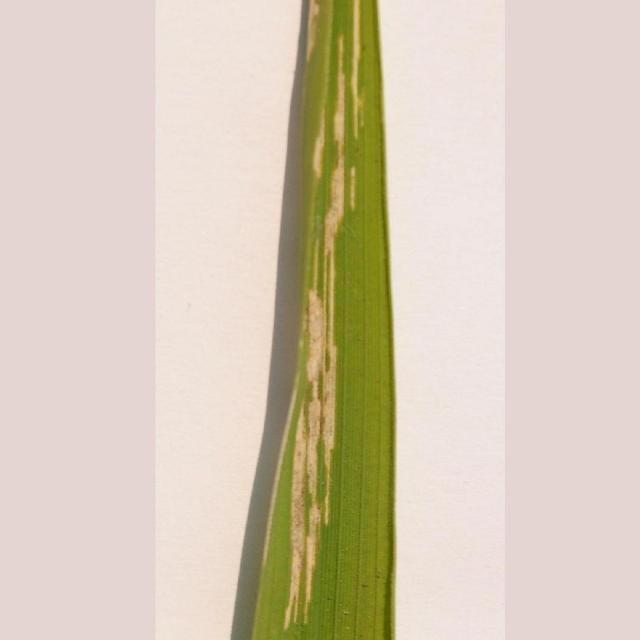leaf blight: (250, 1, 374, 629)
